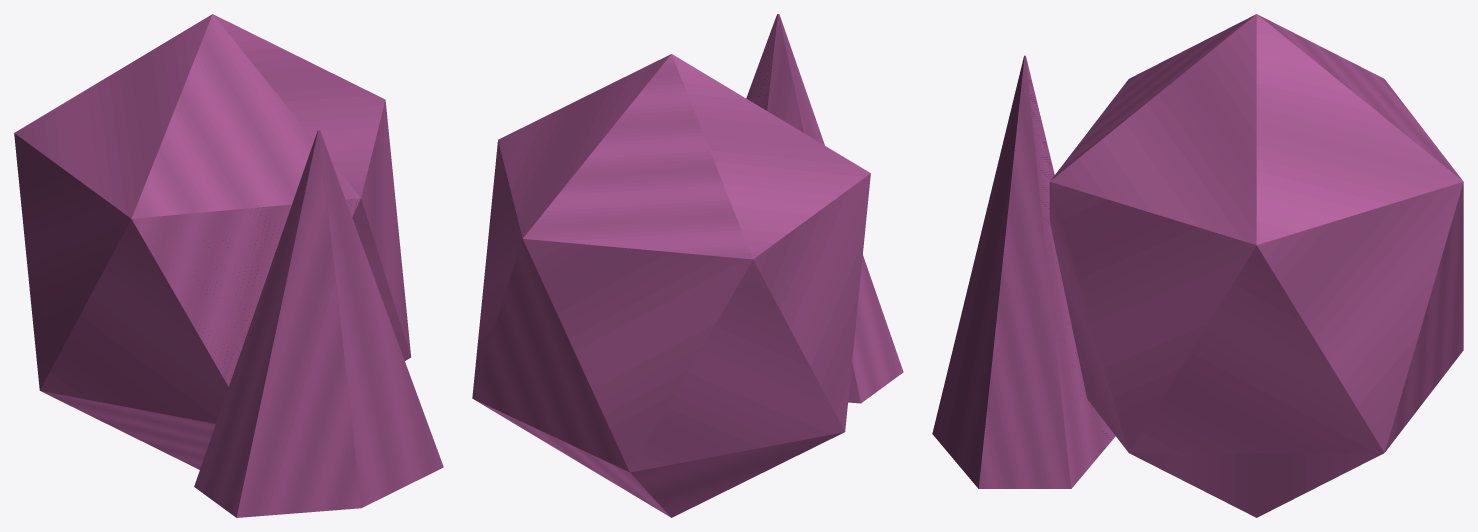
Rendered from piercing_wave.glb.
3 renders of one model, left to right at view 1: azimuth 30°, elevation 25°; view 2: azimuth 150°, elevation 25°; view 3: azimuth 270°, elevation 25°, orthographic. The views are drawn at different scales.
Parts seen in each view (by area): view 1: gear_piercing_wave; view 2: gear_piercing_wave; view 3: gear_piercing_wave.
Part boxes in pixels (x1,y1,x2,y2): gear_piercing_wave: [14, 14, 443, 517]; gear_piercing_wave: [472, 14, 903, 517]; gear_piercing_wave: [932, 14, 1463, 517].
Size of the model in its own units: 0.1878 by 0.24 by 0.2293.
1 material, 1 textured.
